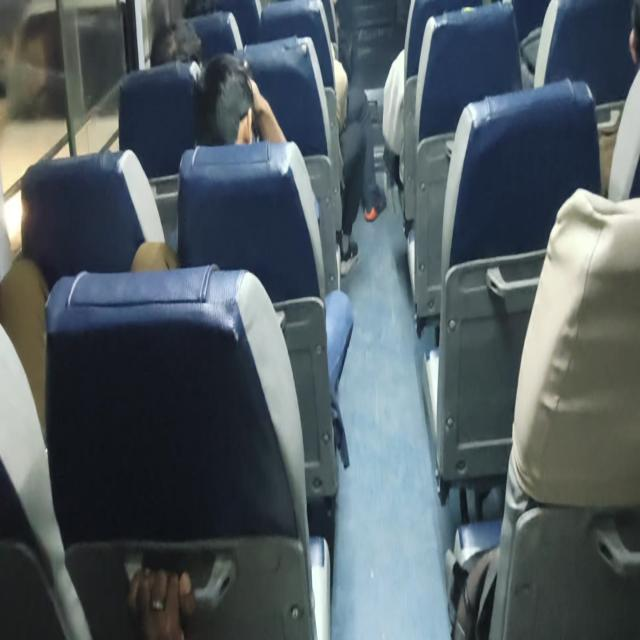person: (206, 71, 266, 141), (143, 22, 201, 65), (612, 0, 640, 64)
